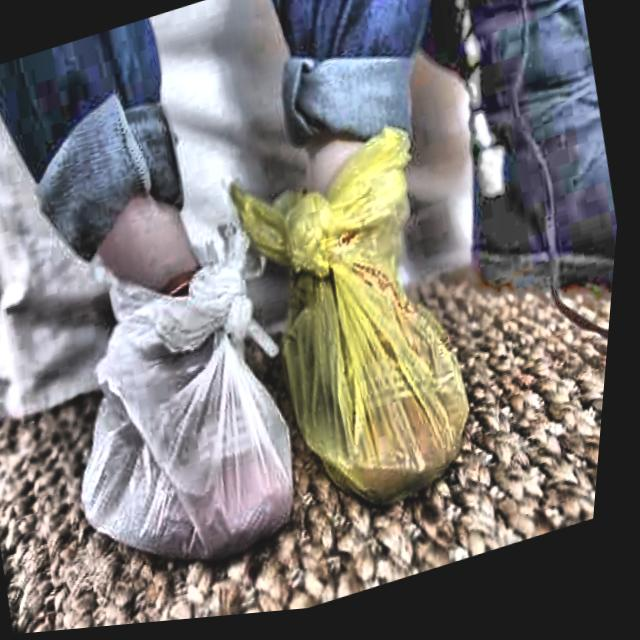Plastic: (232, 131, 536, 572), (43, 226, 350, 630)
